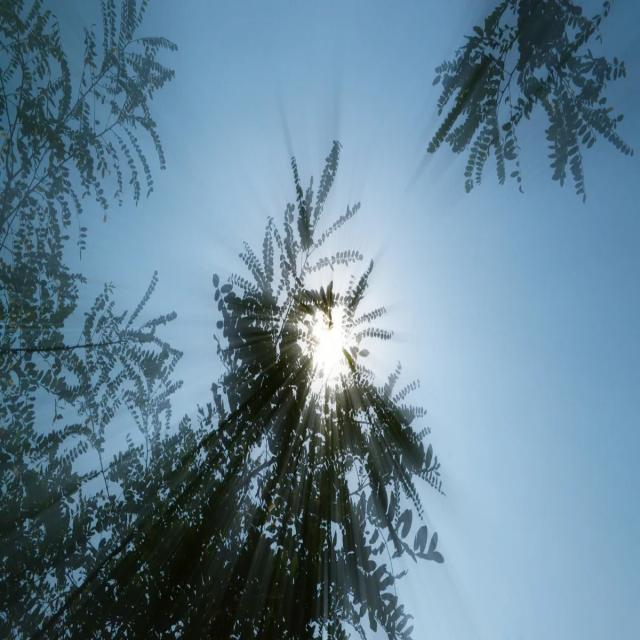sun: (298, 294, 366, 398)
